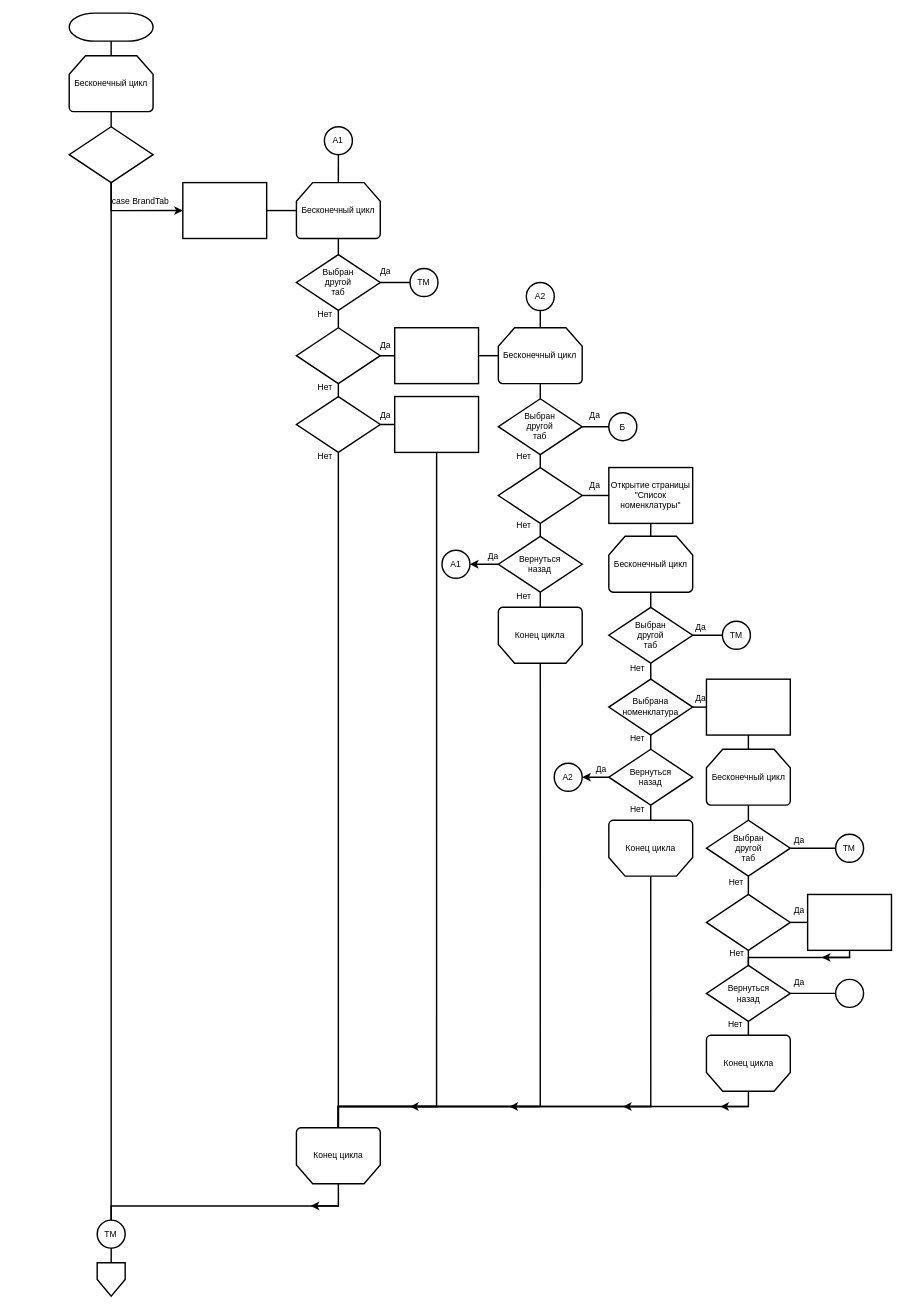
This 905x1309 diagram has some shape labels left out. The shapes that lost their labels are listed below. From the top down, each one's box as (x1, y1, x2, y2) in pixels, then its label:
(68, 12, 153, 41): Начало
(68, 126, 153, 183): Таб меню
(182, 182, 267, 239): Открытие страницы "Бренды"
(295, 327, 381, 384): Выбран бренд
(394, 327, 479, 384): Открытие страницы "Категории номенклатуры"
(295, 395, 381, 453): Начат поиск
(394, 395, 479, 453): Открытие страницы результатов поиска
(497, 466, 583, 524): Выбрана категория
(705, 678, 791, 735): Открытие страницы "Номенклатура"
(705, 893, 791, 951): Кол-во в корзине изменено
(807, 893, 892, 951): Обновление данных коризины
(835, 978, 864, 1008): A3
(96, 1262, 126, 1297): Л2
